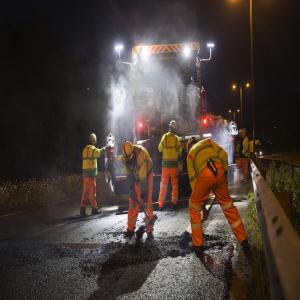white: (89, 132, 98, 147), (170, 121, 178, 133), (242, 128, 248, 139), (239, 130, 243, 138)
yellow: (123, 142, 136, 165), (186, 136, 200, 156)
